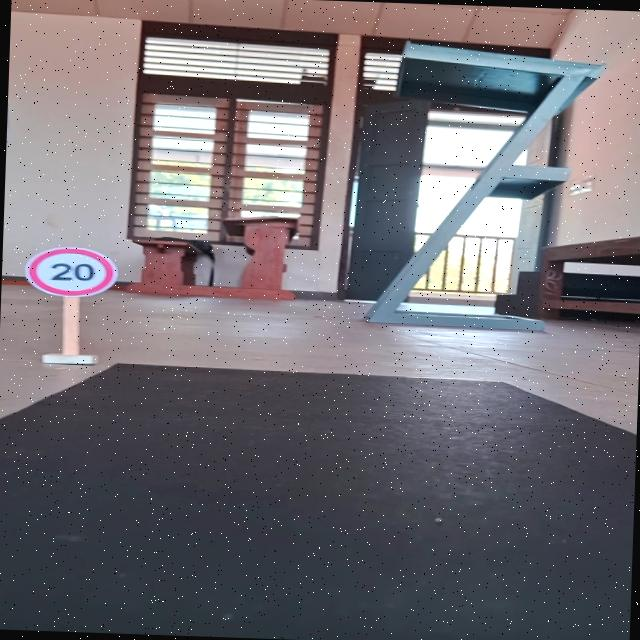Speed20: (21, 244, 120, 299)
